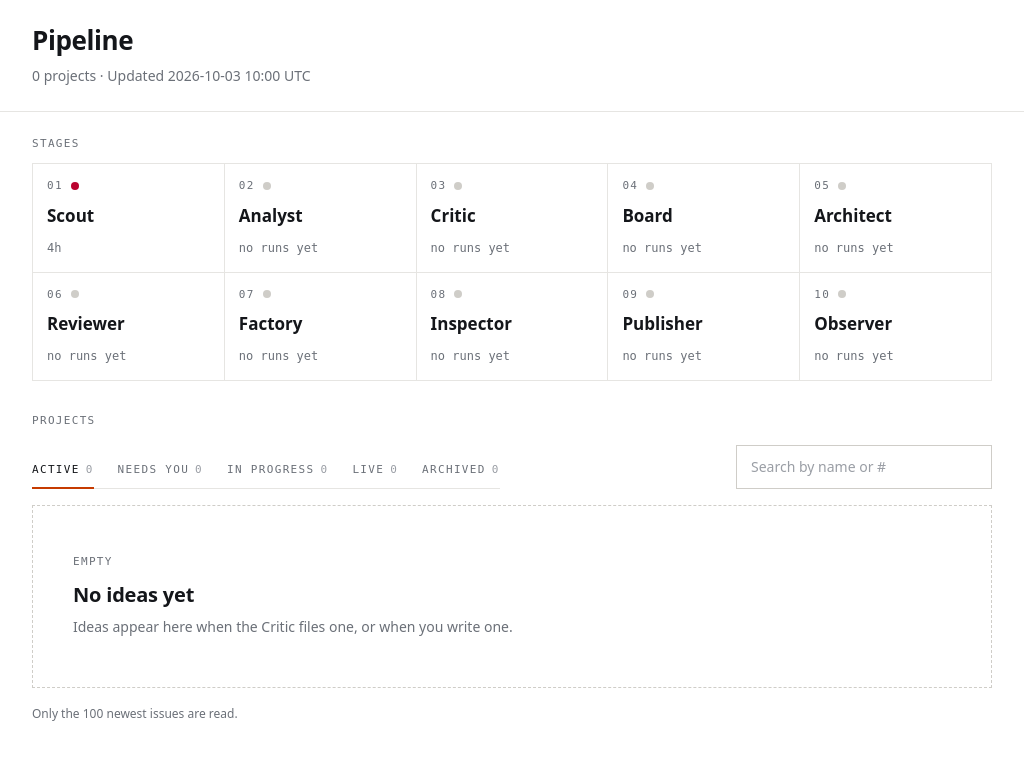
Board › opens a stage to show its recent runs
The image size is (1024, 768).
Expected: the text "4h" is shown, [47,241,62,255]
Click the button "01 Scout 4h" at (128, 218), box [33,164,224,272]
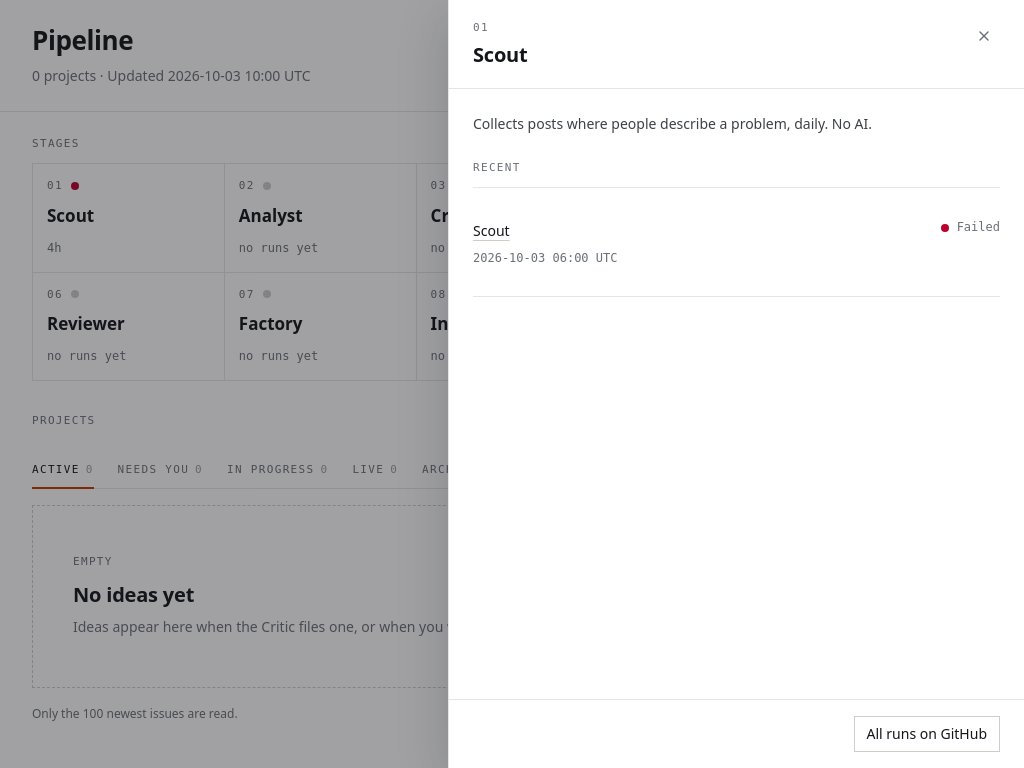
Expected: the link "All runs on GitHub" is shown, [854,716,1000,752]
